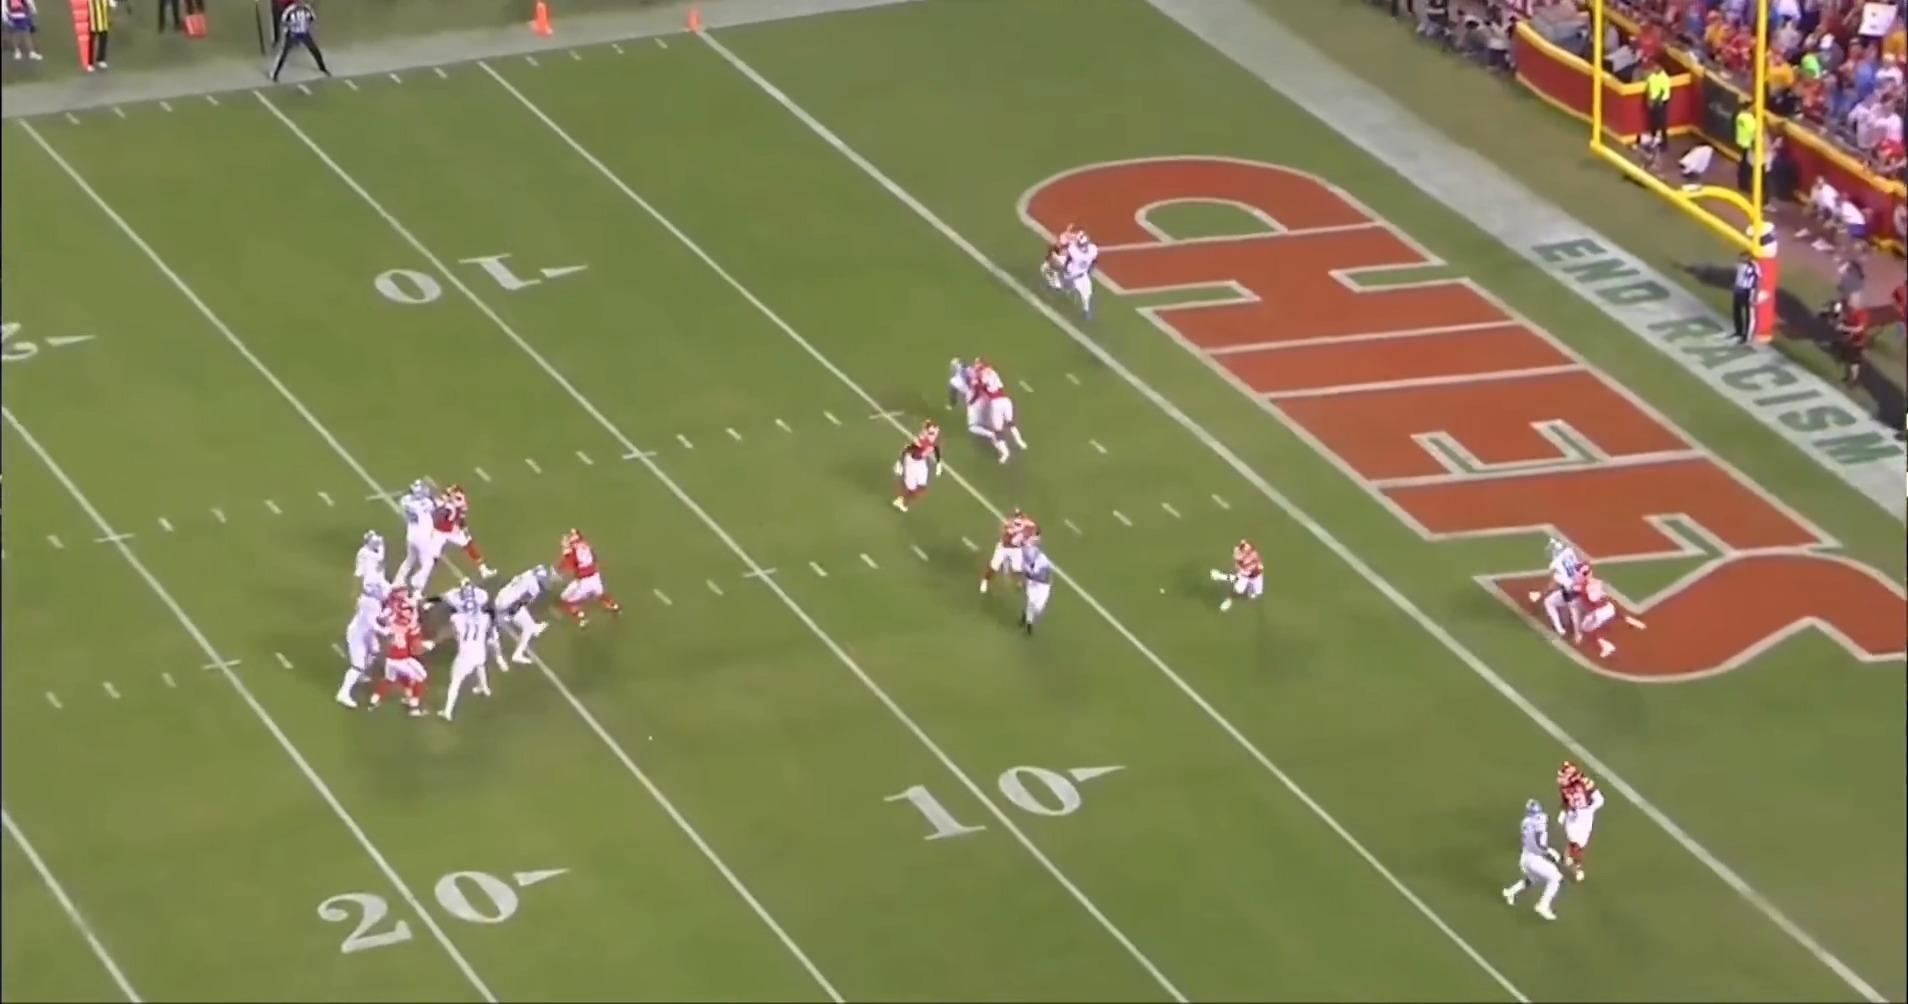defense: (1545, 758, 1605, 885), (366, 612, 435, 719), (546, 525, 616, 632), (1558, 568, 1633, 665), (423, 482, 488, 580), (967, 361, 1023, 472), (970, 505, 1037, 597), (883, 416, 941, 516), (1214, 539, 1275, 621), (1039, 219, 1076, 309), (387, 580, 430, 643)
oline: (439, 597, 503, 728), (501, 560, 569, 672), (336, 575, 390, 710), (390, 478, 447, 571), (439, 578, 500, 617)
qb: (348, 530, 396, 633)
ref: (261, 0, 334, 86), (1717, 237, 1762, 349)
skill: (1498, 795, 1567, 922), (1528, 541, 1593, 637), (939, 348, 998, 445), (1002, 537, 1052, 645), (1066, 226, 1103, 322)
